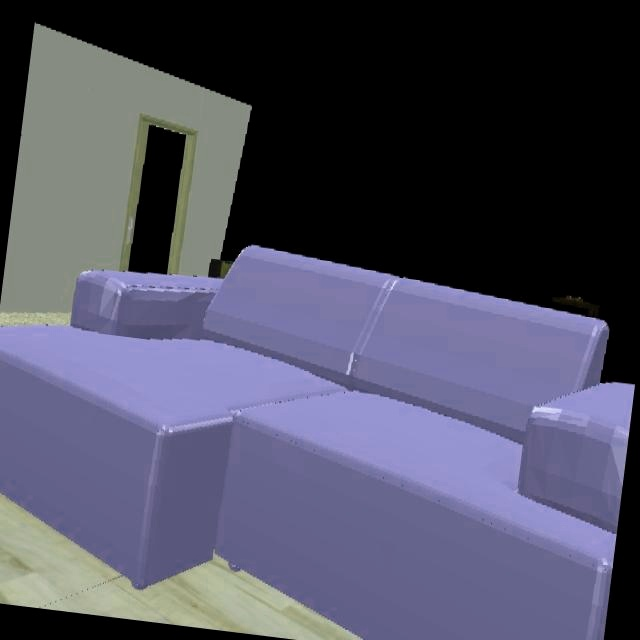sofa: (0, 246, 634, 640)
